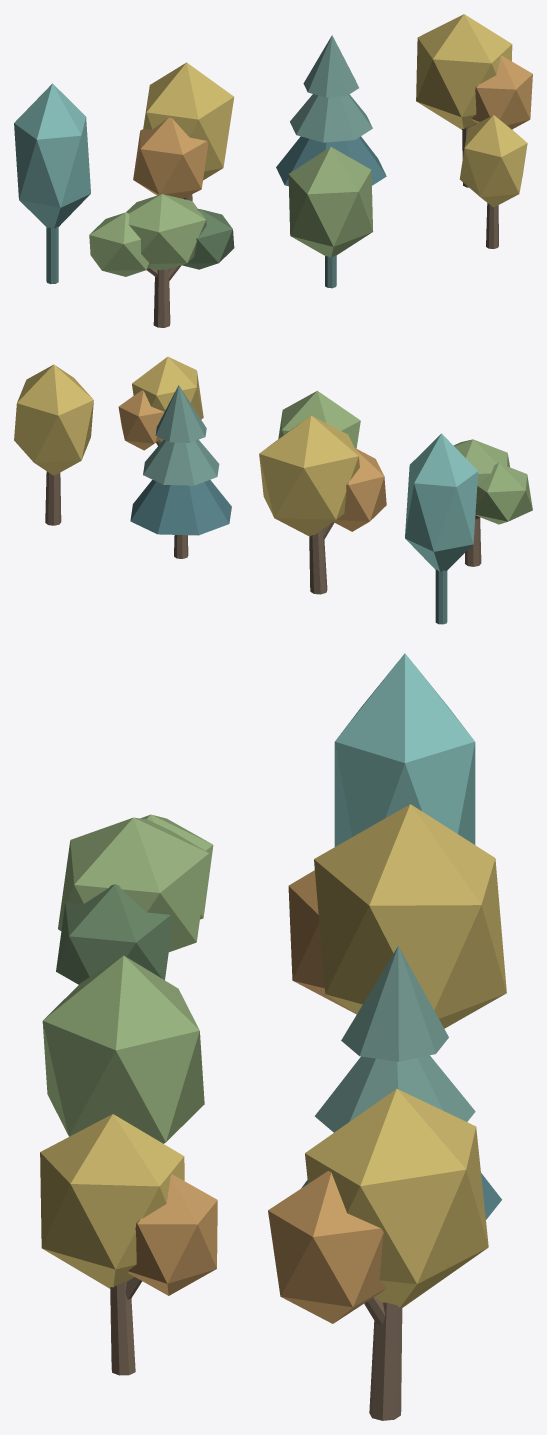
Rendered from campus_forest_edge_v01.glb.
3 renders of one model, top to bottom at view 1: azimuth 30°, elevation 25°; view 2: azimuth 150°, elevation 25°; view 3: azimuth 270°, elevation 25°, orthographic. The views are drawn at different scales.
Parts seen in each view (by area): view 1: campus_forest_edge; view 2: campus_forest_edge; view 3: campus_forest_edge.
Boxes of the visible parts, x1,y1,x2,y2 form: campus_forest_edge: [14, 14, 532, 327]; campus_forest_edge: [14, 356, 532, 624]; campus_forest_edge: [40, 653, 506, 1420].
Size of the model in its own units: 10.91 by 4.22 by 4.73.
Materials: 1 (1 with a texture image).
